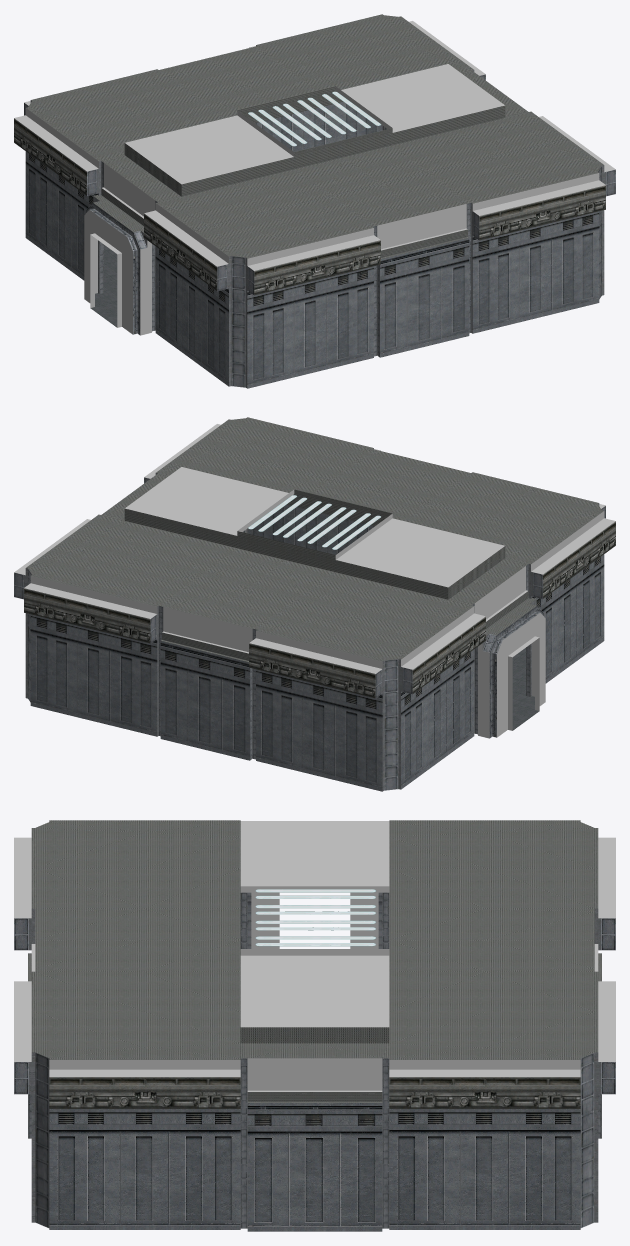
File: poi_all_impl_bunker_warren_s01_r44_smallroom44_mesh_r44.fbx
3 renders of one model, top to bottom at view 1: azimuth 30°, elevation 25°; view 2: azimuth 150°, elevation 25°; view 3: azimuth 270°, elevation 25°, orthographic. The views are drawn at different scales.
Visible parts, largest first — view 1: mesh_node; view 2: mesh_node; view 3: mesh_node.
Part boxes in pixels (x1,y1,x2,y2): mesh_node: (14,14,615,388); mesh_node: (14,417,615,791); mesh_node: (14,820,615,1231).
Size of the model in its own units: 17.5 by 6 by 17.
